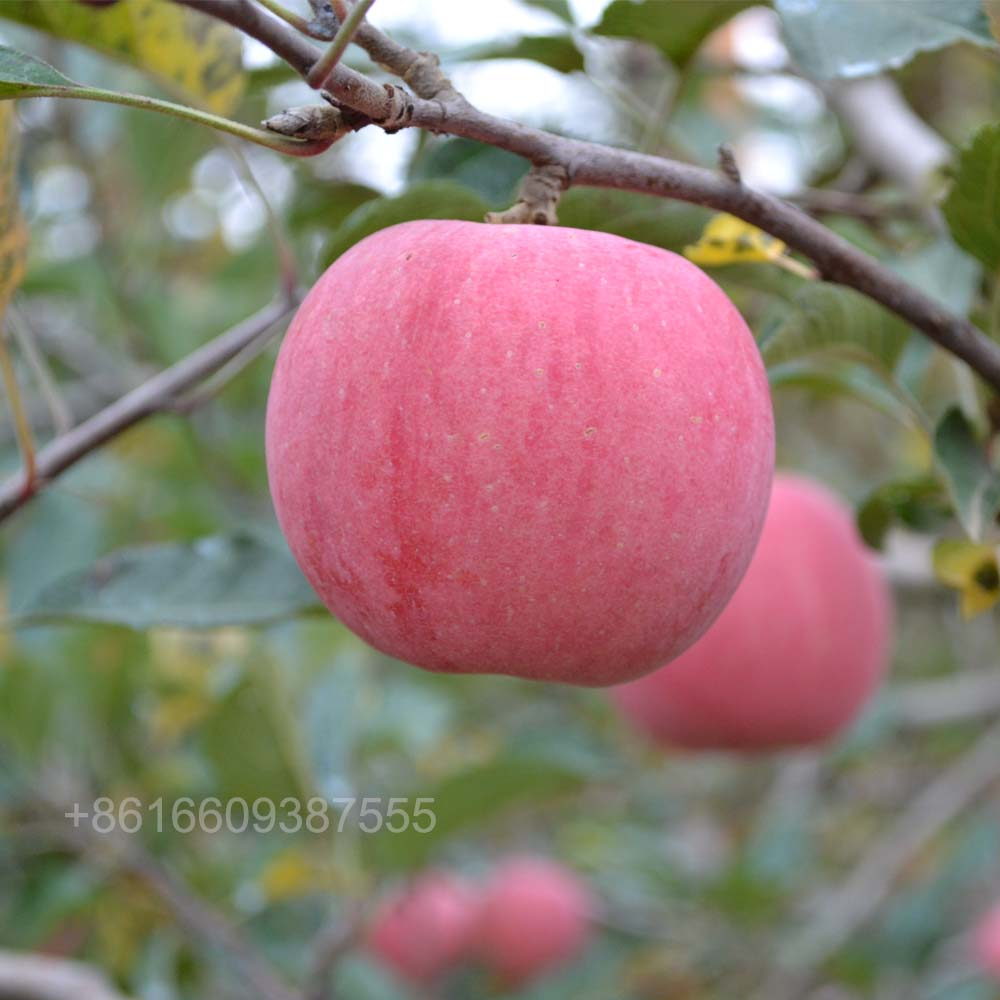apple: (262, 217, 781, 691)
